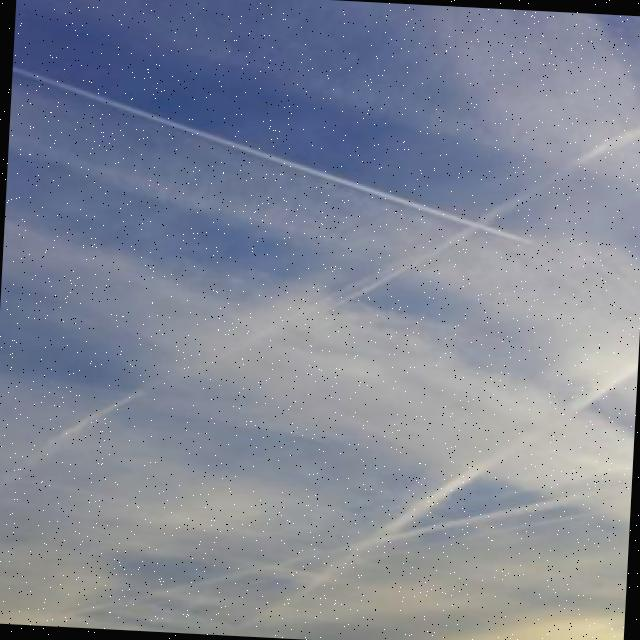Ct: (1, 26, 640, 618)
